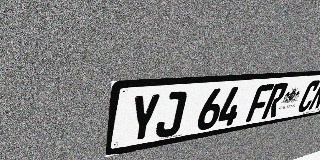4: (216, 86, 246, 128)
6: (195, 88, 227, 131)
C: (296, 80, 320, 113)
F: (245, 84, 274, 122)
J: (154, 91, 188, 139)
N: (307, 79, 320, 111)
R: (261, 83, 289, 119)
Y: (127, 93, 161, 144)
